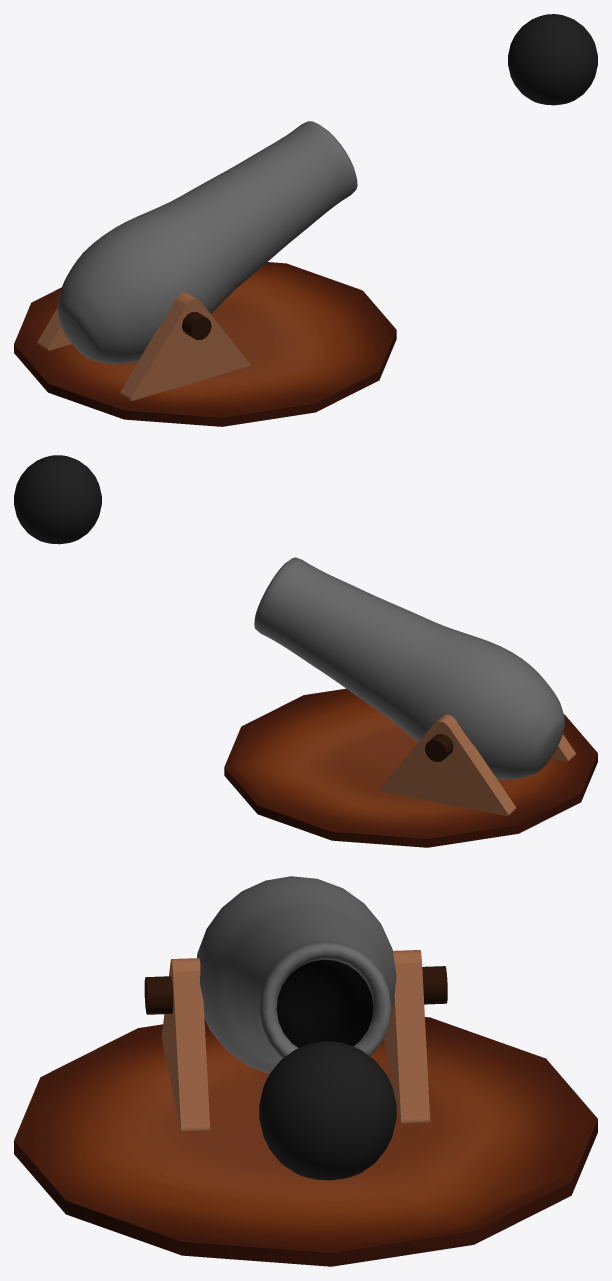
File: cannon.fbx
The picture shows the model from 3 angles, top to bottom: view 1: azimuth 30°, elevation 25°; view 2: azimuth 150°, elevation 25°; view 3: azimuth 270°, elevation 25°; orthographic projection. The views are drawn at different scales.
Visible parts, largest first — view 1: Cylinder003, Sphere001; view 2: Cylinder003, Sphere001; view 3: Cylinder003, Sphere001.
Boxes of the visible parts, x1,y1,x2,y2 form: Cylinder003: (14,121,396,426); Sphere001: (508,14,597,105); Cylinder003: (224,557,597,847); Sphere001: (14,455,101,544); Cylinder003: (14,876,597,1266); Sphere001: (259,1041,396,1180).
Size of the model in its own units: 666 by 269 by 395.
